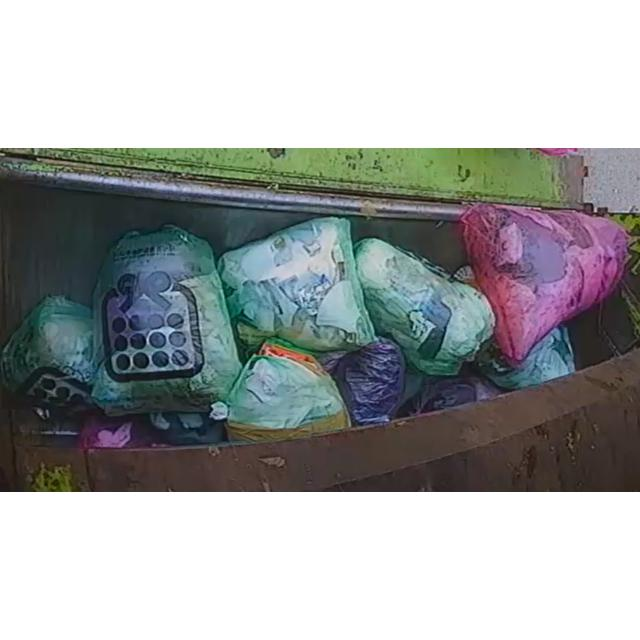general_trashbag: (92, 226, 241, 415), (219, 217, 375, 351), (355, 238, 495, 376), (226, 343, 350, 441), (1, 296, 94, 405), (475, 327, 575, 390)
other_trashbag: (460, 204, 628, 362), (332, 338, 404, 426)
